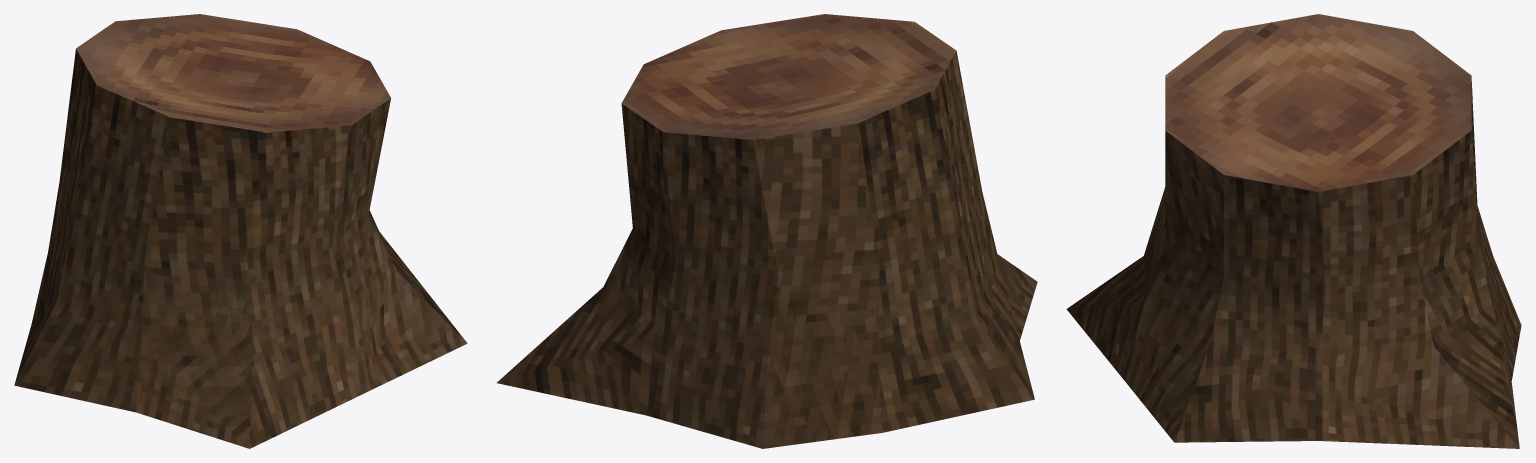
The model's file is Stump.glb.
The picture shows the model from 3 angles, left to right: view 1: azimuth 30°, elevation 25°; view 2: azimuth 150°, elevation 25°; view 3: azimuth 270°, elevation 25°; orthographic projection. The views are drawn at different scales.
Parts seen in each view (by area): view 1: pCylinder1; view 2: pCylinder1; view 3: pCylinder1.
Boxes of the visible parts, x1,y1,x2,y2 form: pCylinder1: [14, 14, 467, 448]; pCylinder1: [497, 14, 1037, 448]; pCylinder1: [1066, 14, 1521, 448].
Bounding box in the file's own units: 3.1 × 2.06 × 3.02.
1 material, 1 textured.
